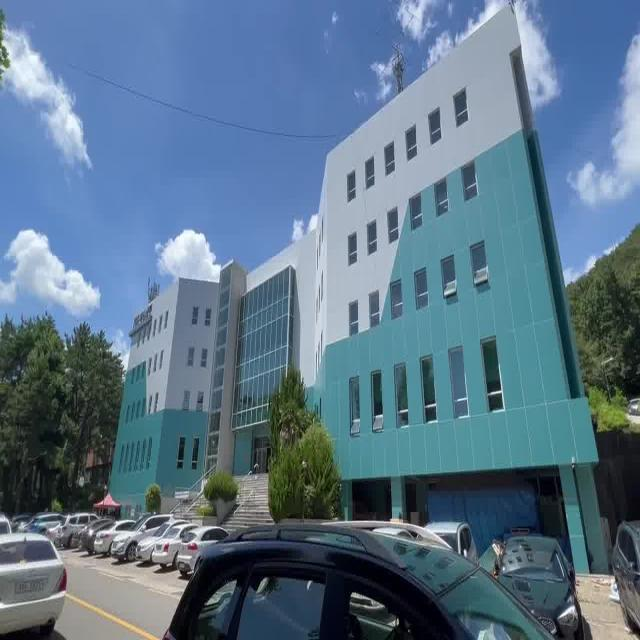building: (122, 91, 587, 469)
